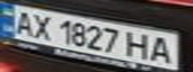1: (51, 17, 75, 45)
2: (84, 22, 106, 52)
7: (103, 25, 124, 55)
8: (66, 20, 87, 48)
A: (145, 34, 178, 64), (9, 8, 39, 36)
H: (124, 29, 154, 60)
X: (27, 11, 57, 40)
